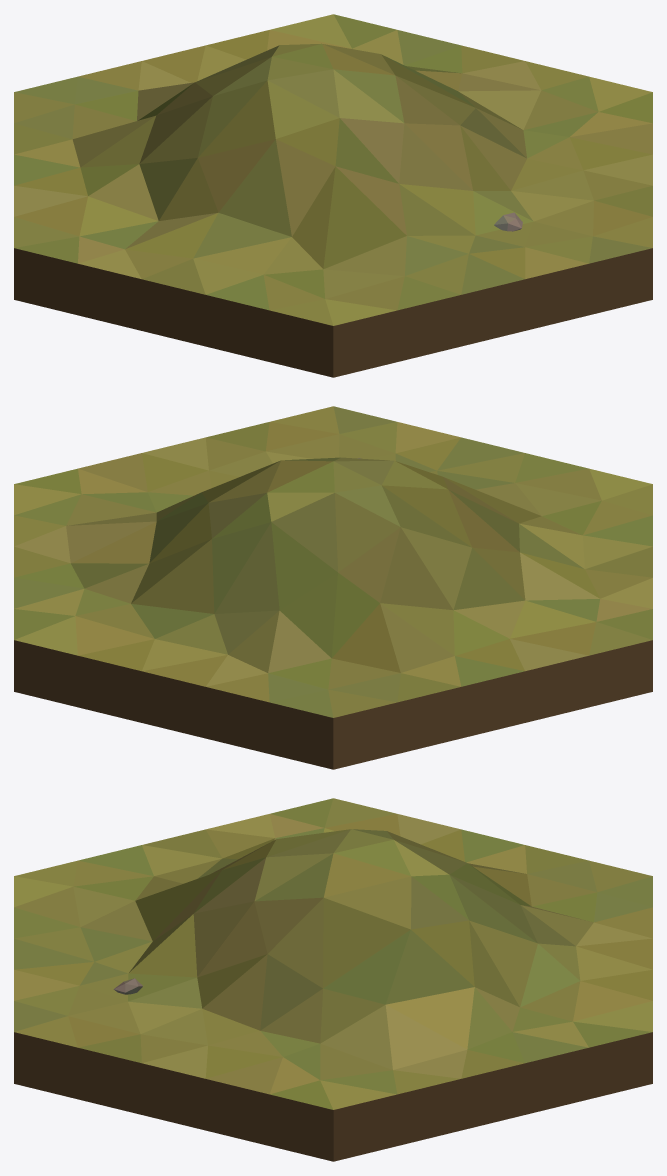
File: Plains Hill.glb
3 renders of one model, top to bottom at view 1: azimuth 30°, elevation 25°; view 2: azimuth 150°, elevation 25°; view 3: azimuth 270°, elevation 25°, orthographic.
Visible parts, largest first — view 1: Plains Hill; view 2: Plains Hill; view 3: Plains Hill.
Boxes of the visible parts, x1,y1,x2,y2 form: Plains Hill: (14,14,652,377); Plains Hill: (14,406,652,769); Plains Hill: (14,798,652,1161).
Size of the model in its own units: 1.94 by 0.4425 by 1.68.
